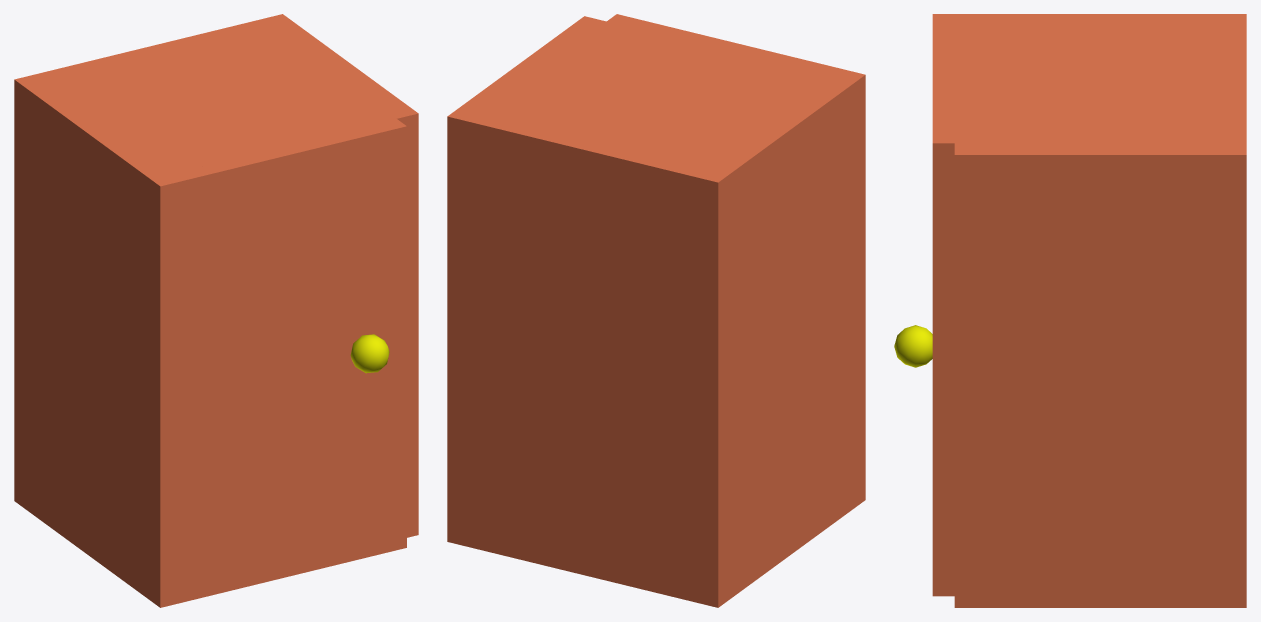
File: Shelf.fbx
The picture shows the model from 3 angles, left to right: view 1: azimuth 30°, elevation 25°; view 2: azimuth 150°, elevation 25°; view 3: azimuth 270°, elevation 25°; orthographic projection. The views are drawn at different scales.
Visible parts, largest first — view 1: Куб.001, KitchenShelf.001; view 2: KitchenShelf.001, Куб.001; view 3: KitchenShelf.001, Куб.001.
Part boxes in pixels (left/top/right/bottom): Куб.001: left=150, top=119, right=406, bottom=607; KitchenShelf.001: left=14, top=14, right=418, bottom=600; KitchenShelf.001: left=447, top=16, right=855, bottom=607; Куб.001: left=607, top=14, right=865, bottom=507; KitchenShelf.001: left=954, top=14, right=1246, bottom=607; Куб.001: left=894, top=14, right=954, bottom=596.
Bounding box in the file's own units: 73.98 × 111 × 78.28.
